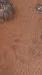plaque psoriasis: (0, 0, 15, 22), (35, 3, 42, 12), (41, 0, 42, 62)
